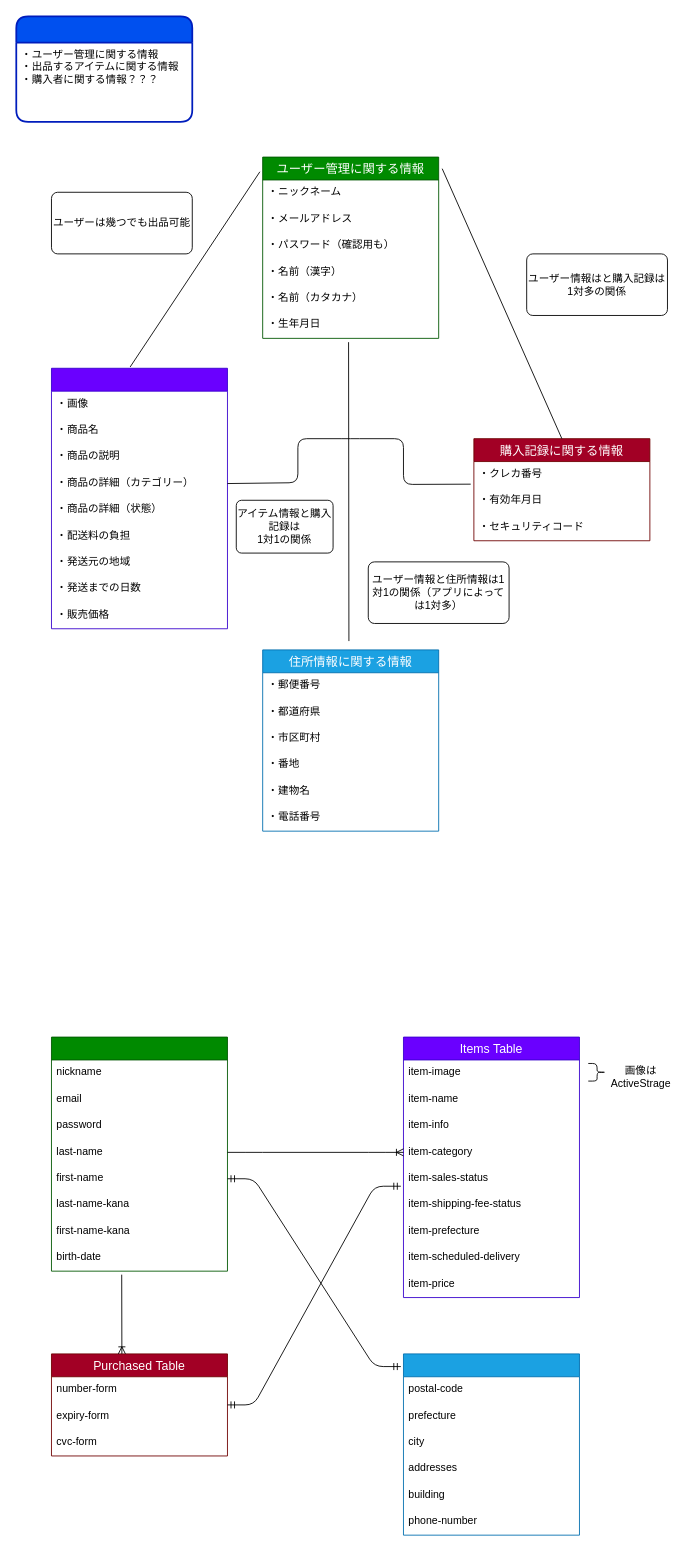
Image size: 691x1552. Some labels were removed from this diagram. The box of each missing label's shape, as (x1, y1, x2, y2) in pixels:
Entity: (15, 15, 193, 122)
Shipping infomation Table: (403, 1353, 579, 1535)
Users Table: (51, 1036, 227, 1271)
出品するアイテムに関する情報: (51, 367, 227, 629)
